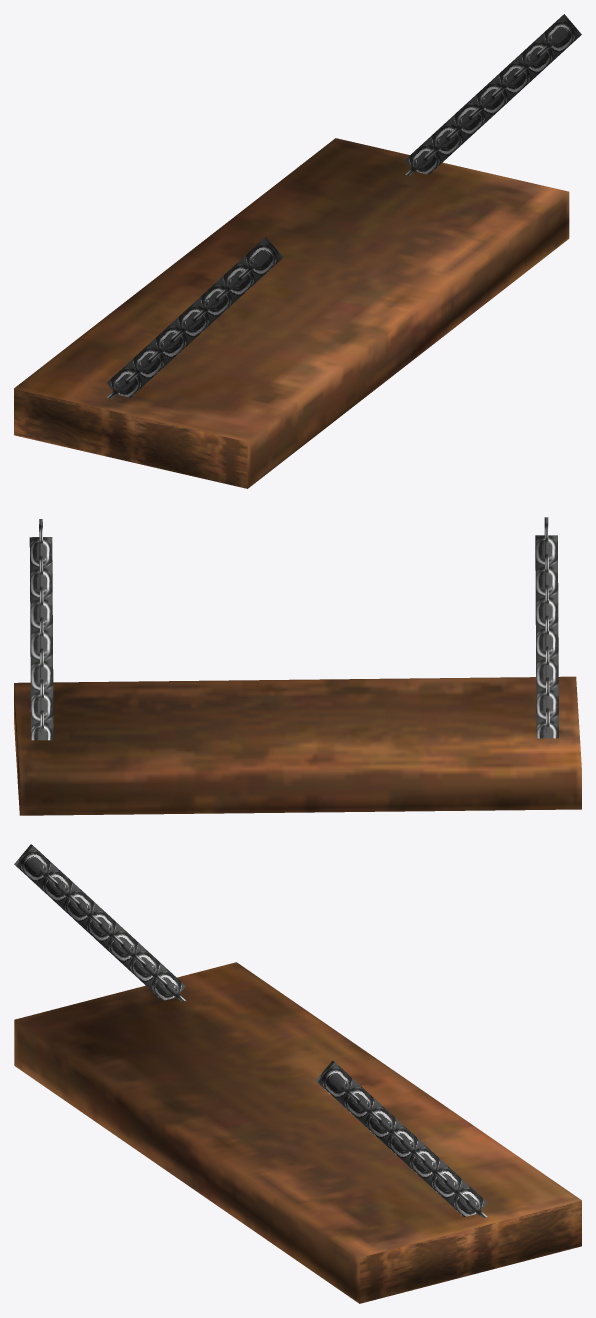
The model's file is SWORDLIGHT20_JAILCOT03.fbx.
3 renders of one model, top to bottom at view 1: azimuth 30°, elevation 25°; view 2: azimuth 150°, elevation 25°; view 3: azimuth 270°, elevation 25°, orthographic. The views are drawn at different scales.
Parts seen in each view (by area): view 1: SWORDLIGHT20_JAILCOT03; view 2: SWORDLIGHT20_JAILCOT03; view 3: SWORDLIGHT20_JAILCOT03.
Part boxes in pixels (left/top/right/bottom): SWORDLIGHT20_JAILCOT03: left=14, top=14, right=581, bottom=488; SWORDLIGHT20_JAILCOT03: left=14, top=517, right=581, bottom=815; SWORDLIGHT20_JAILCOT03: left=14, top=844, right=581, bottom=1303.
Size of the model in its own units: 26381 by 9715 by 21410.
2 materials, 2 textured.
